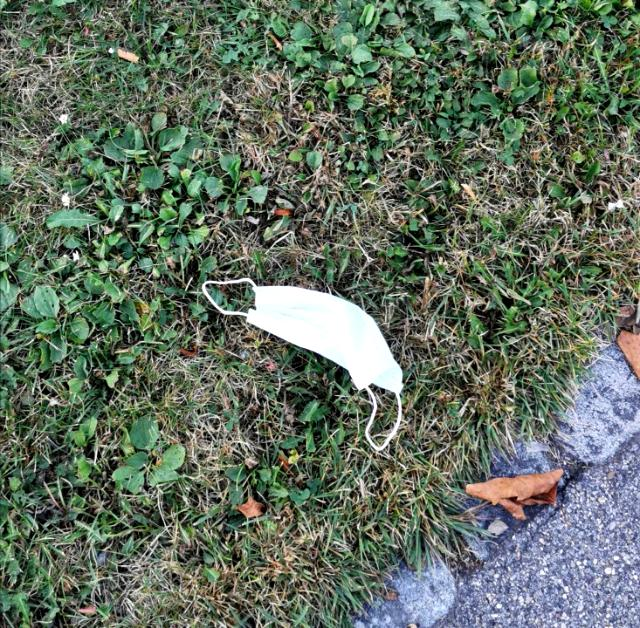mask: (215, 259, 421, 442)
